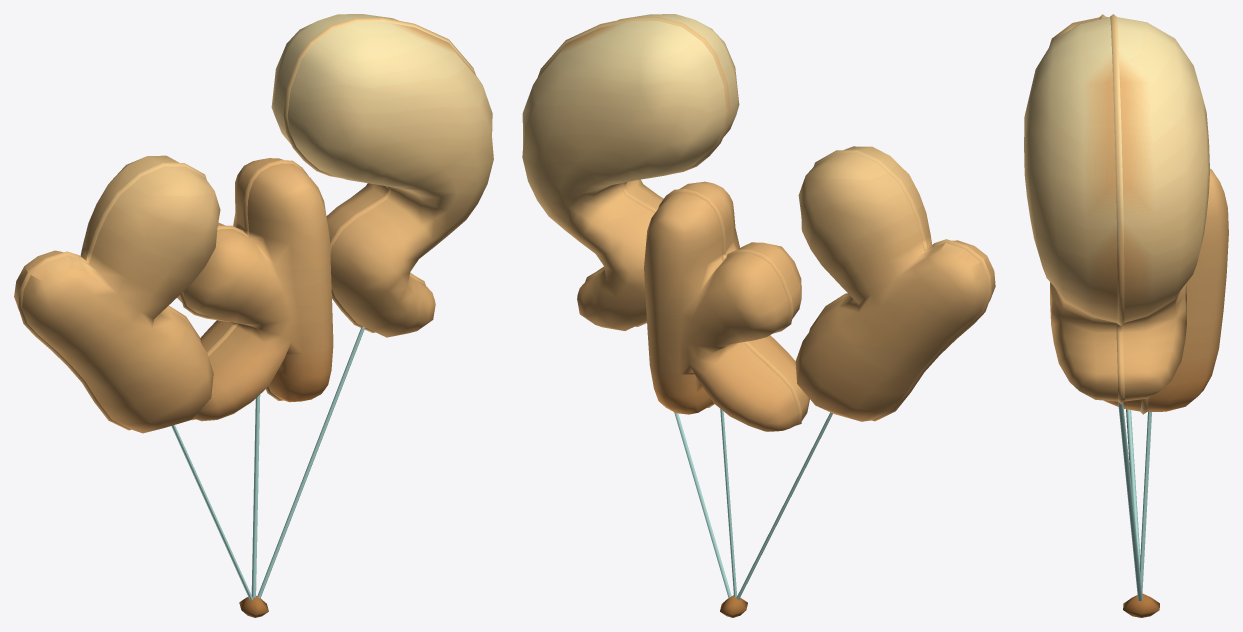
File: Prop_SkyBalloon.glb
3 renders of one model, left to right at view 1: azimuth 30°, elevation 25°; view 2: azimuth 150°, elevation 25°; view 3: azimuth 270°, elevation 25°, orthographic. The views are drawn at different scales.
Visible parts, largest first — view 1: Prop_SkyBalloon; view 2: Prop_SkyBalloon; view 3: Prop_SkyBalloon.
Part boxes in pixels (bbox=[...]): Prop_SkyBalloon: bbox=[14, 14, 493, 617]; Prop_SkyBalloon: bbox=[522, 14, 995, 617]; Prop_SkyBalloon: bbox=[1024, 14, 1228, 617].
Size of the model in its own units: 13.81 by 16.38 by 4.78.
Materials: 1 (1 with a texture image).
